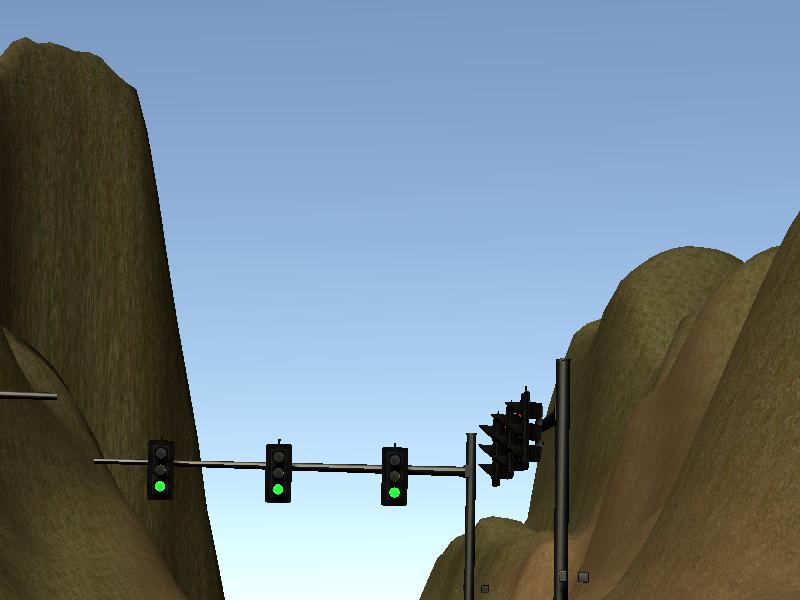Green: (266, 445, 291, 502), (382, 448, 406, 507), (148, 440, 172, 498)
